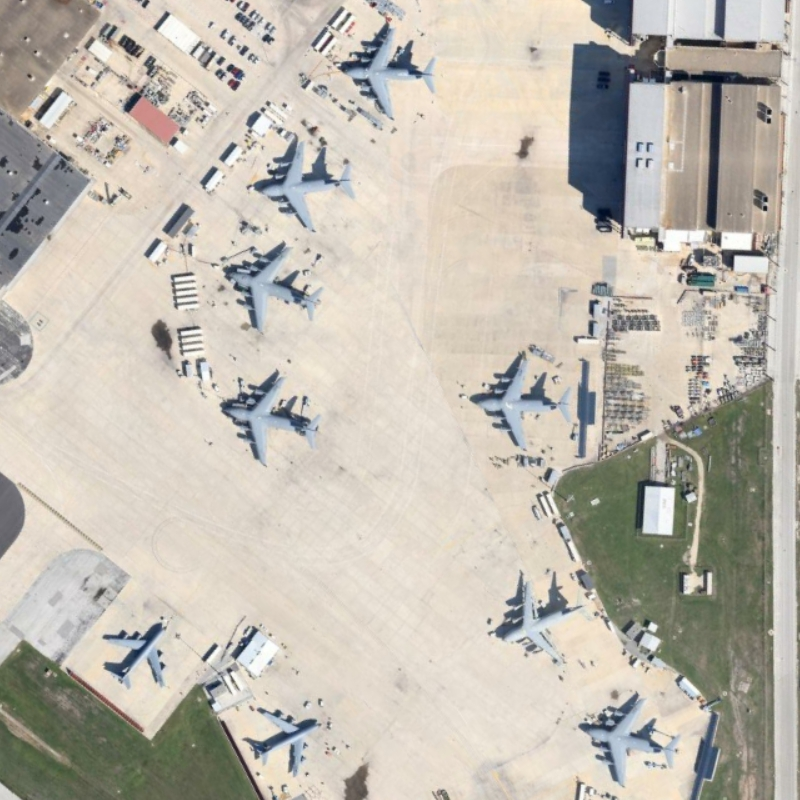A14: (93, 615, 179, 697), (247, 701, 325, 779)
A3: (335, 18, 443, 126), (219, 365, 325, 472), (576, 688, 686, 787), (472, 354, 577, 454), (253, 136, 359, 232), (224, 246, 327, 335), (501, 579, 596, 668)
